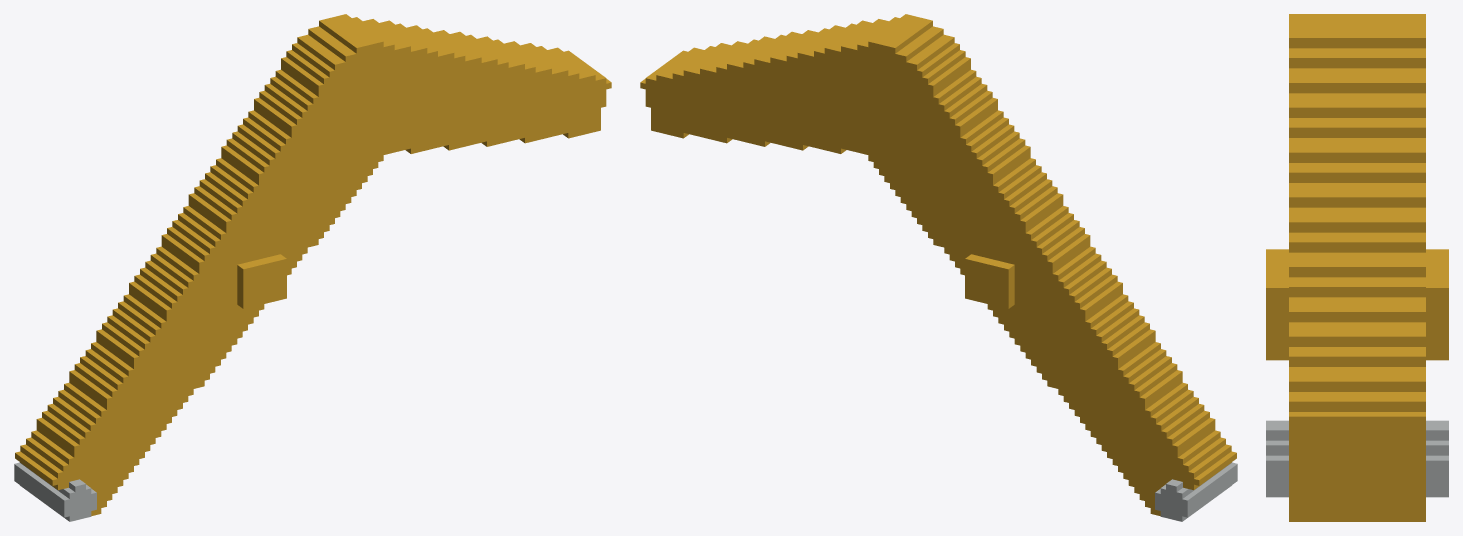
The model's file is excavator_boom.glb.
3 views of the same model, side by side, from view 1: azimuth 30°, elevation 25°; view 2: azimuth 150°, elevation 25°; view 3: azimuth 270°, elevation 25° (orthographic). The views are drawn at different scales.
Visible parts, largest first — view 1: body:compound; view 2: body:compound; view 3: body:compound.
Boxes of the visible parts, x1,y1,x2,y2 form: body:compound: (14,14,611,521); body:compound: (640,14,1237,521); body:compound: (1266,14,1448,521).
Size of the model in its own units: 3.22 by 2.22 by 0.5.
